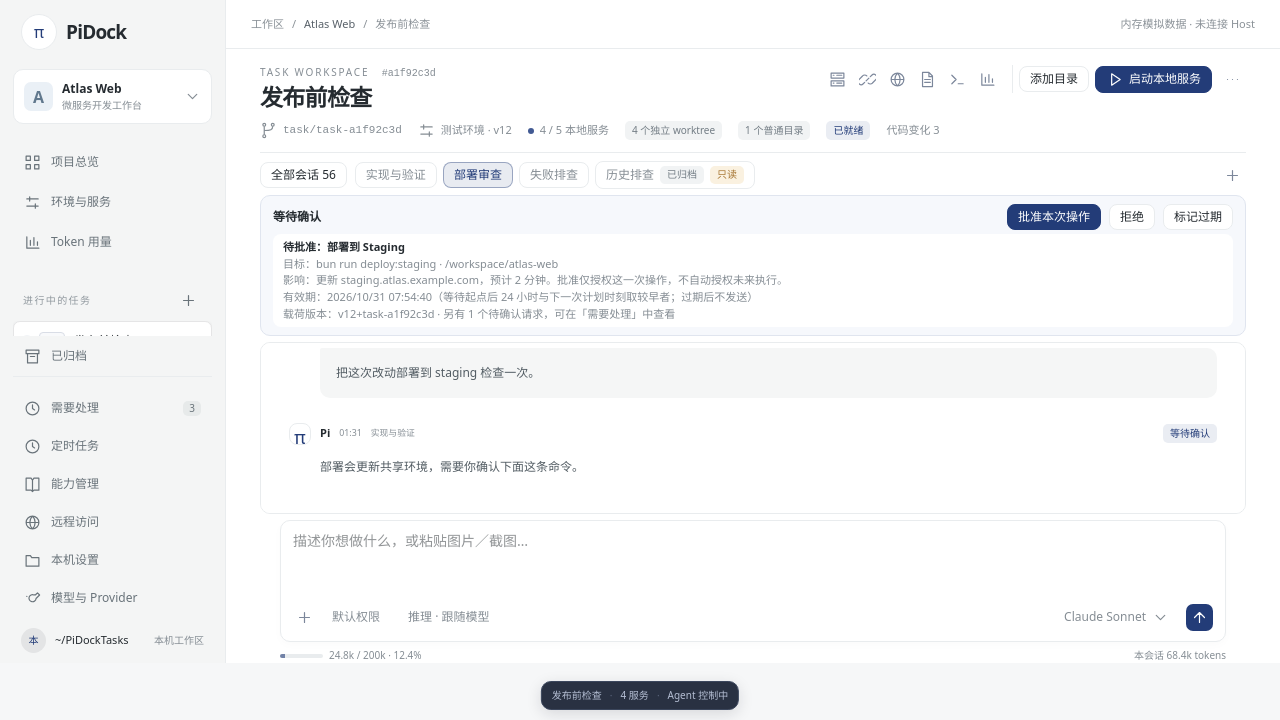
Test case: execution card › keeps the waiting card's payload review and one-shot approval semantics
(page scrolled)
Expected: the heading "发布前检查" is shown, left=260, top=81, right=372, bottom=113
Expected: the text with test id "execution-card-state" reads "等待确认", left=273, top=208, right=321, bottom=225
Click the button "批准本次操作" at (1054,217), box left=1007, top=204, right=1101, bottom=230
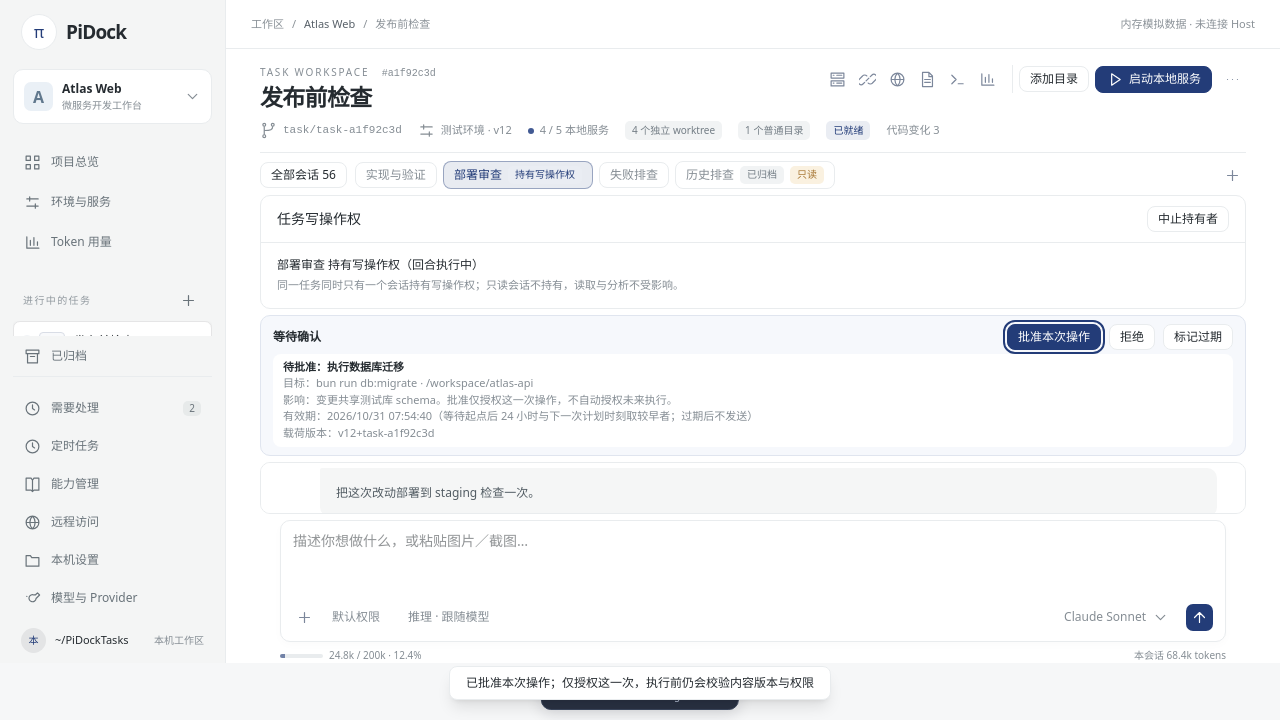
Now the element with test id "execution-approval-preview" shows "待批准：执行数据库迁移", box left=273, top=354, right=1233, bottom=447
Now the button "已批准本次操作；仅授权这一次，执行前仍会校验内容版本与权限" is shown, box left=449, top=666, right=831, bottom=700
